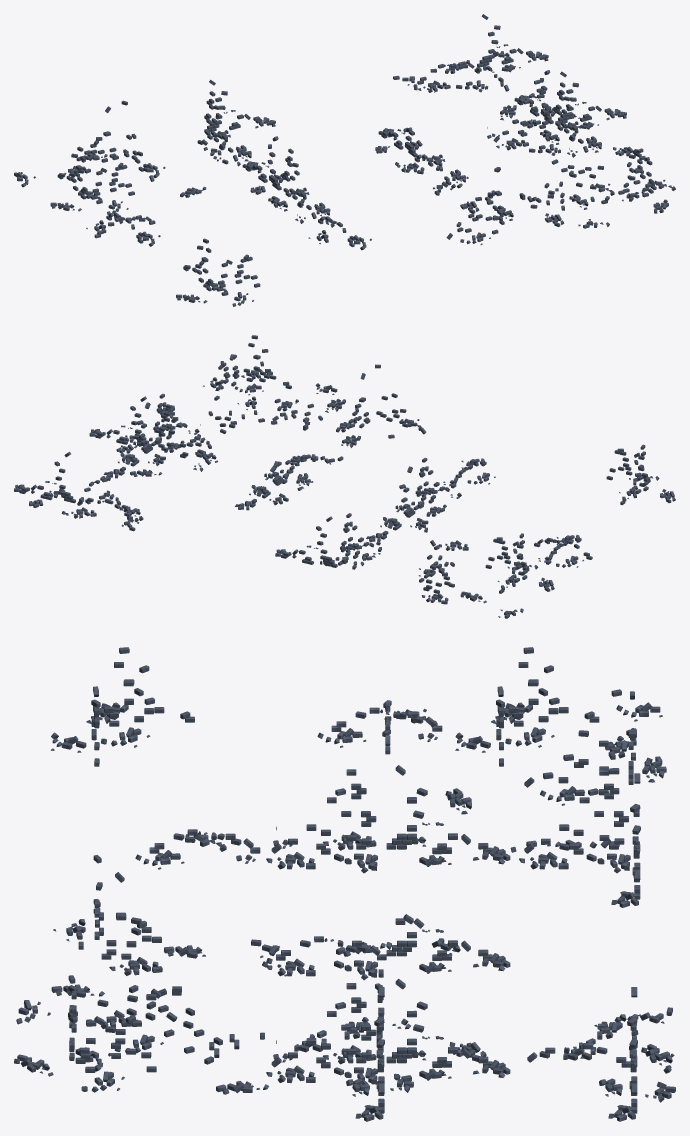
File: AncientRuin1.obj
The picture shows the model from 3 angles, top to bottom: view 1: azimuth 30°, elevation 25°; view 2: azimuth 150°, elevation 25°; view 3: azimuth 270°, elevation 25°; orthographic projection. The views are drawn at different scales.
Parts seen in each view (by area): view 1: Bricks1; view 2: Bricks1; view 3: Bricks1.
Part boxes in pixels (x1=…): Bricks1: x1=14, y1=14, x2=675, y2=306; Bricks1: x1=14, y1=335, x2=675, y2=618; Bricks1: x1=14, y1=647, x2=675, y2=1121.
Size of the model in its own units: 19.41 by 2.18 by 13.09.
1 material, 1 textured.
